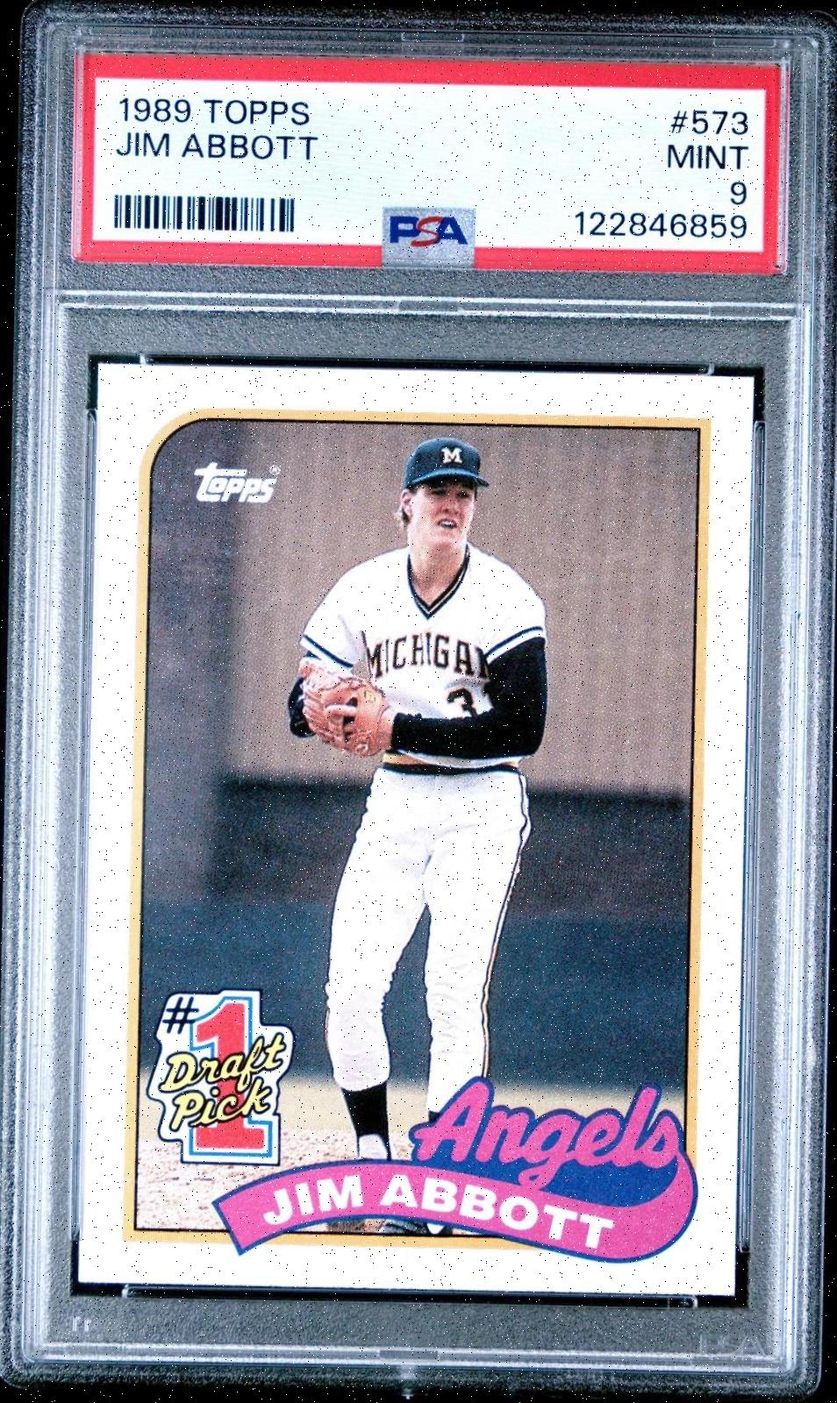card-2UtV: (77, 362, 754, 1296)
